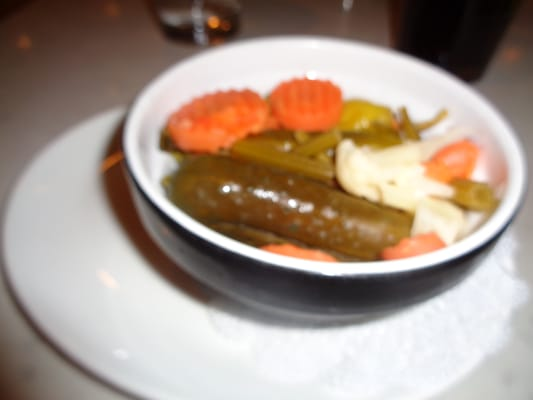sushi: (97, 40, 530, 282)
